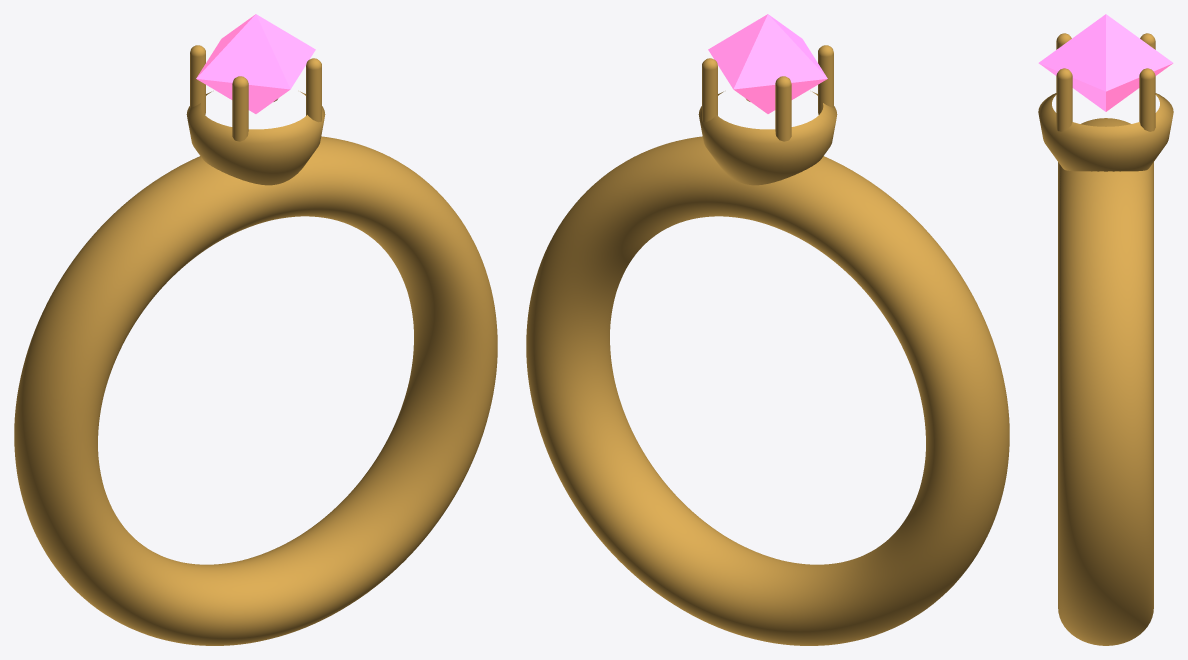
The model's file is ring.glb.
3 views of the same model, side by side, from view 1: azimuth 30°, elevation 25°; view 2: azimuth 150°, elevation 25°; view 3: azimuth 270°, elevation 25° (orthographic). The views are drawn at different scales.
Visible parts, largest first — view 1: band, setting, stone, prong (×3); view 2: band, setting, stone, prong (×3); view 3: band, stone, setting, prong (×2).
Boxes of the visible parts, x1,y1,x2,y2 form: band: [14, 136, 497, 645]; setting: [186, 91, 325, 185]; stone: [196, 14, 315, 113]; prong (×3): [190, 45, 321, 141]; band: [526, 136, 1009, 645]; setting: [698, 91, 837, 185]; stone: [708, 14, 827, 113]; prong (×3): [702, 45, 833, 141]; band: [1058, 118, 1153, 645]; stone: [1038, 14, 1173, 111]; setting: [1038, 93, 1173, 171]; prong (×2): [1056, 68, 1155, 131].
Bounding box in the file's own units: 1.17 × 1.48 × 0.3.
